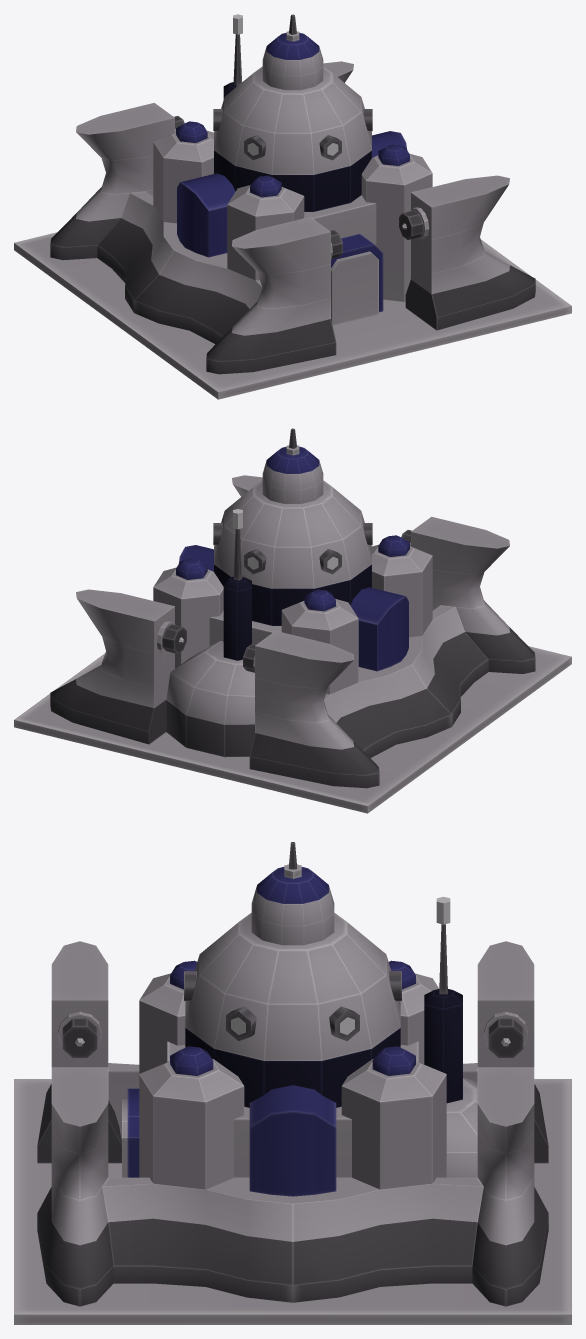
The model's file is struct_Headquarters_Atreus_A.FBX.
3 views of the same model, one above another, from view 1: azimuth 30°, elevation 25°; view 2: azimuth 150°, elevation 25°; view 3: azimuth 270°, elevation 25° (orthographic). The views are drawn at different scales.
Parts seen in each view (by area): view 1: struct_Headquarters_Atreus_A; view 2: struct_Headquarters_Atreus_A; view 3: struct_Headquarters_Atreus_A.
Part boxes in pixels (x1,y1,x2,y2): struct_Headquarters_Atreus_A: [14, 14, 571, 399]; struct_Headquarters_Atreus_A: [14, 428, 571, 813]; struct_Headquarters_Atreus_A: [14, 842, 571, 1324].
Size of the model in its own units: 1000 by 720 by 1000.
